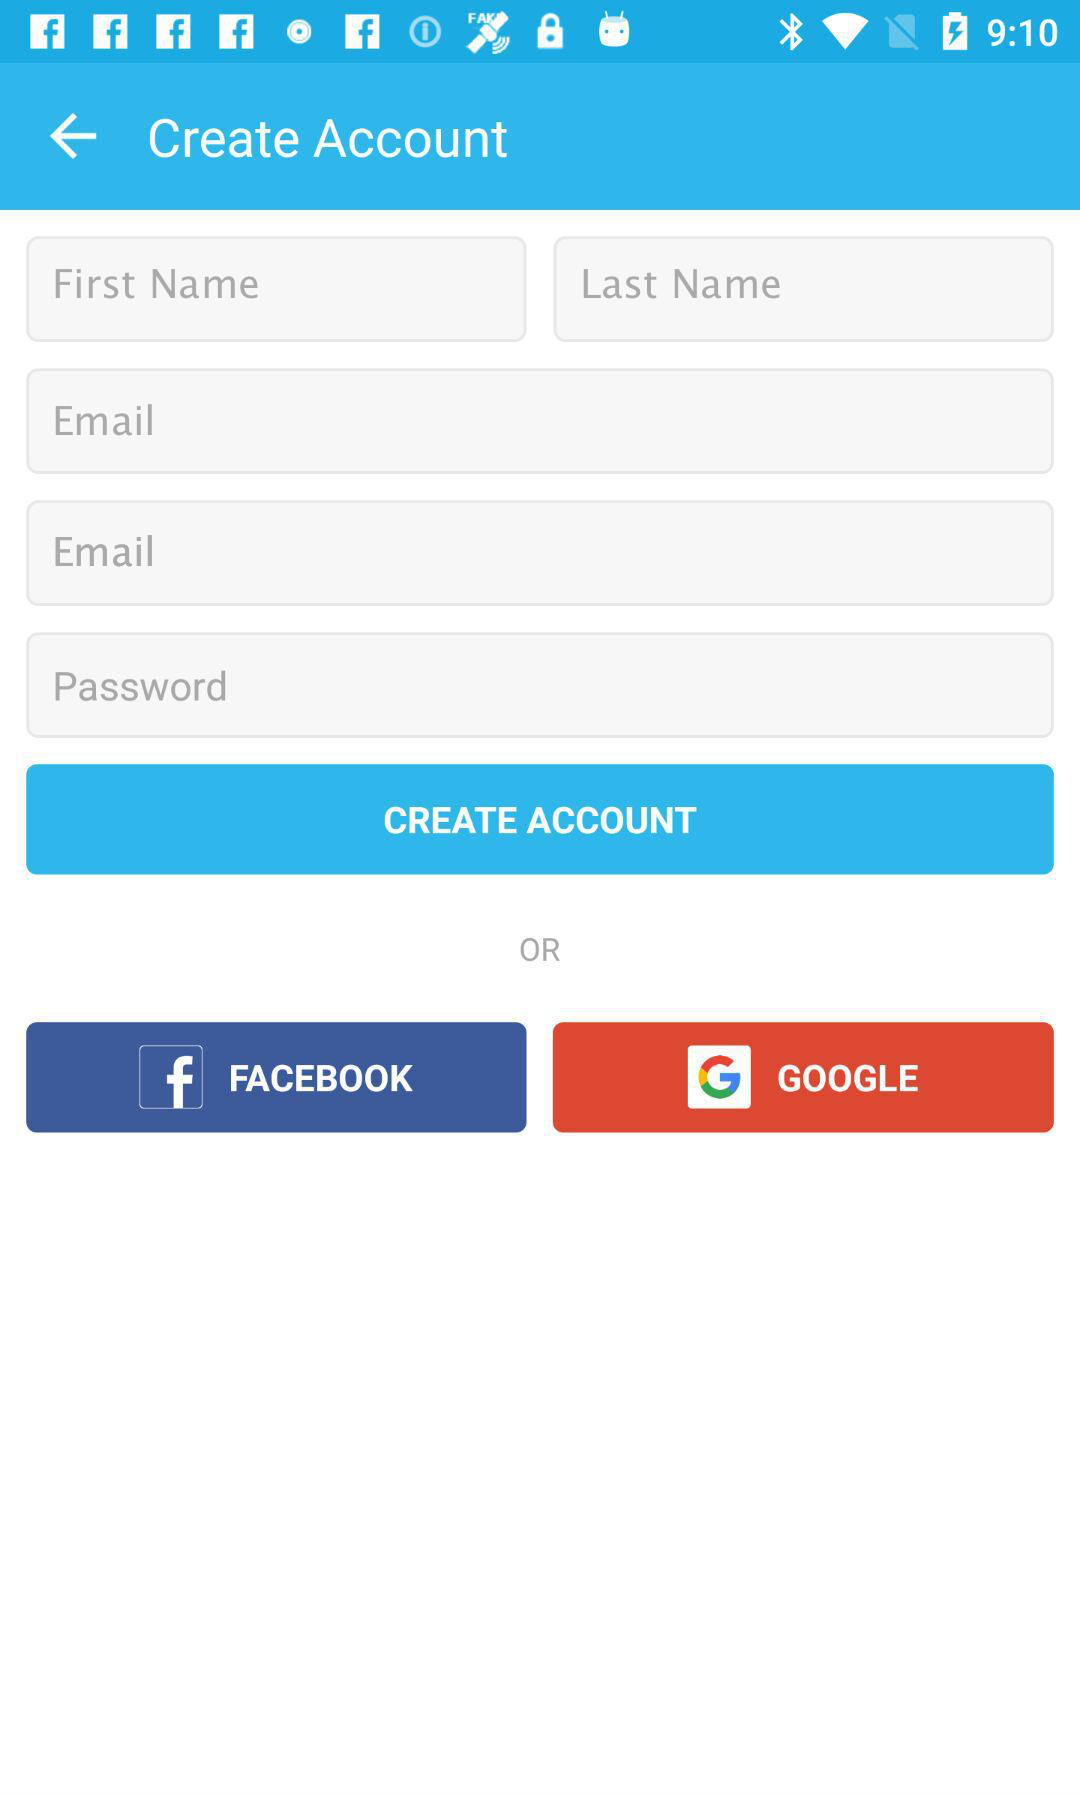EditText: (27, 632, 1054, 739), (27, 368, 1054, 475), (26, 236, 528, 343), (553, 236, 1054, 343)
Icon: (49, 111, 97, 161)
Text: (26, 500, 1054, 607), (150, 117, 509, 161), (56, 269, 259, 300), (583, 269, 781, 300), (55, 670, 227, 704), (56, 404, 154, 437), (55, 536, 154, 568), (520, 937, 561, 964)
TextButton: (26, 764, 1054, 876), (26, 1023, 528, 1134), (553, 1023, 1054, 1134)
Toolbar: (1, 64, 1080, 211)
UpperTaskBar: (1, 1, 1080, 64)
